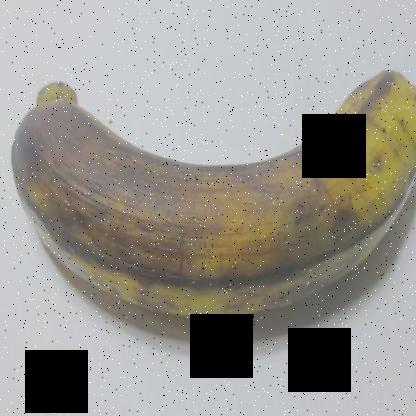overripe: (1, 47, 415, 340)
